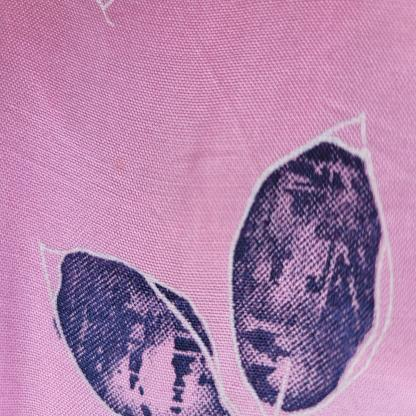spot: (108, 149, 137, 182)
